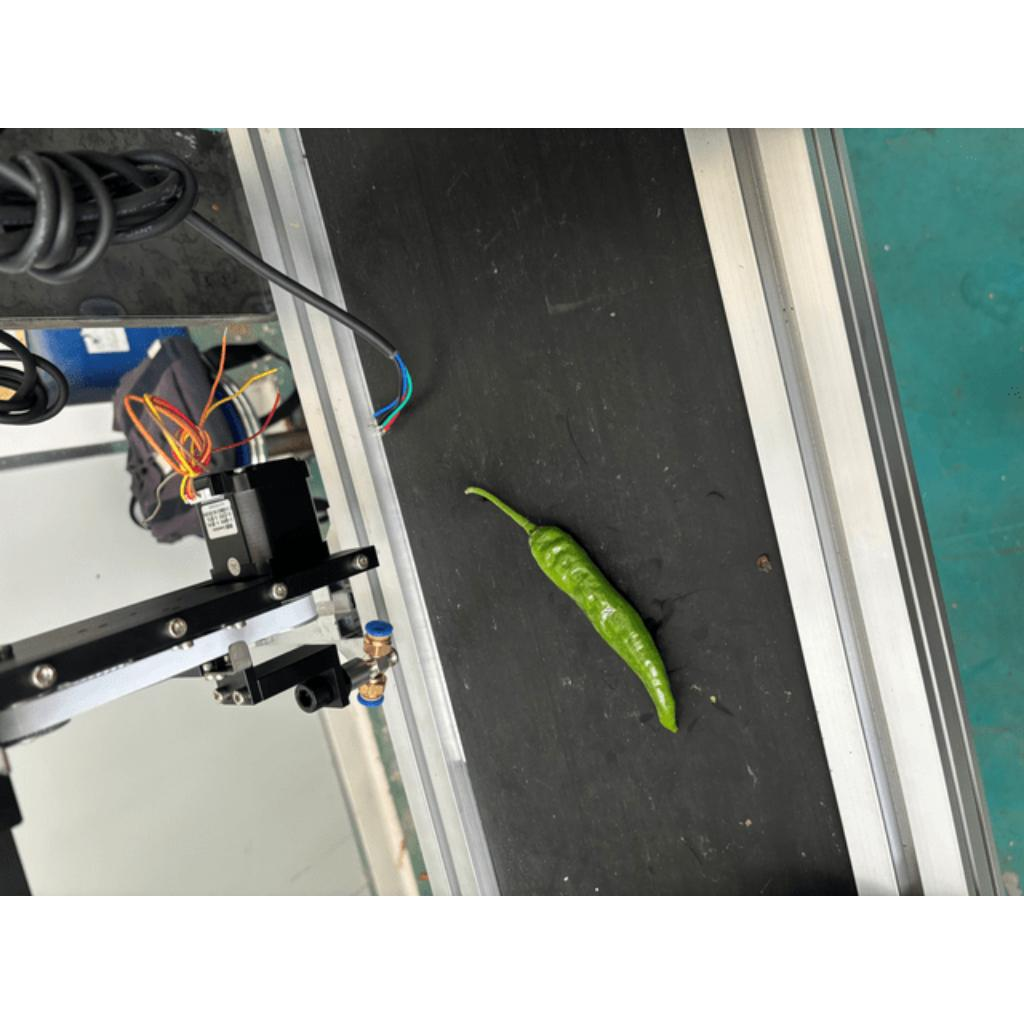chili: (529, 521, 683, 739)
